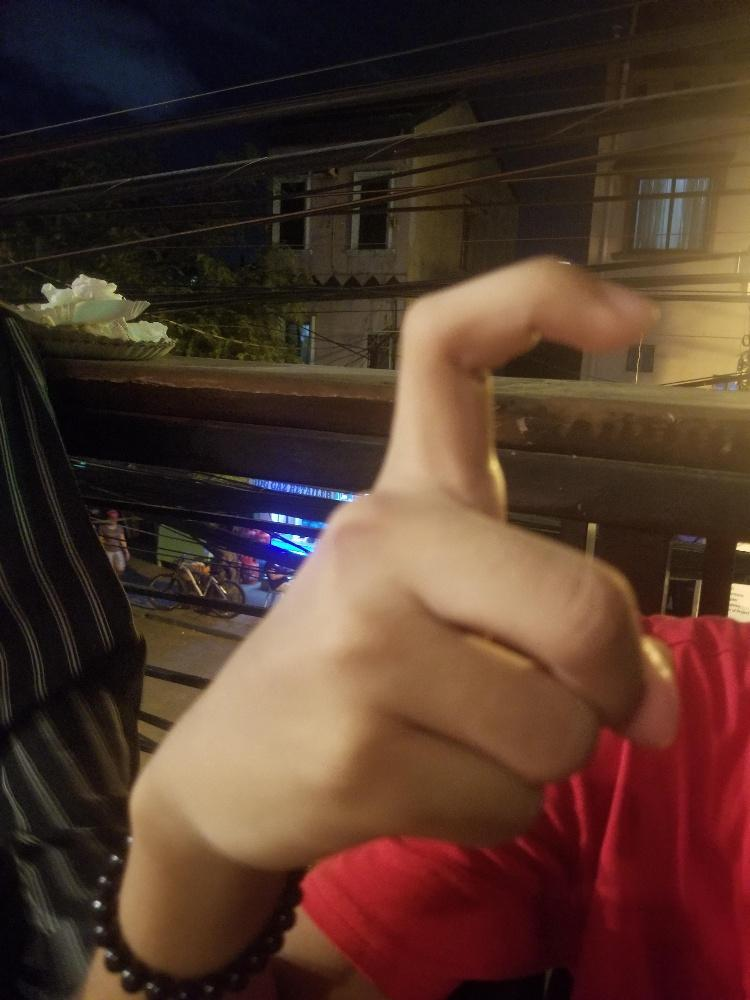x: (189, 255, 668, 868)
